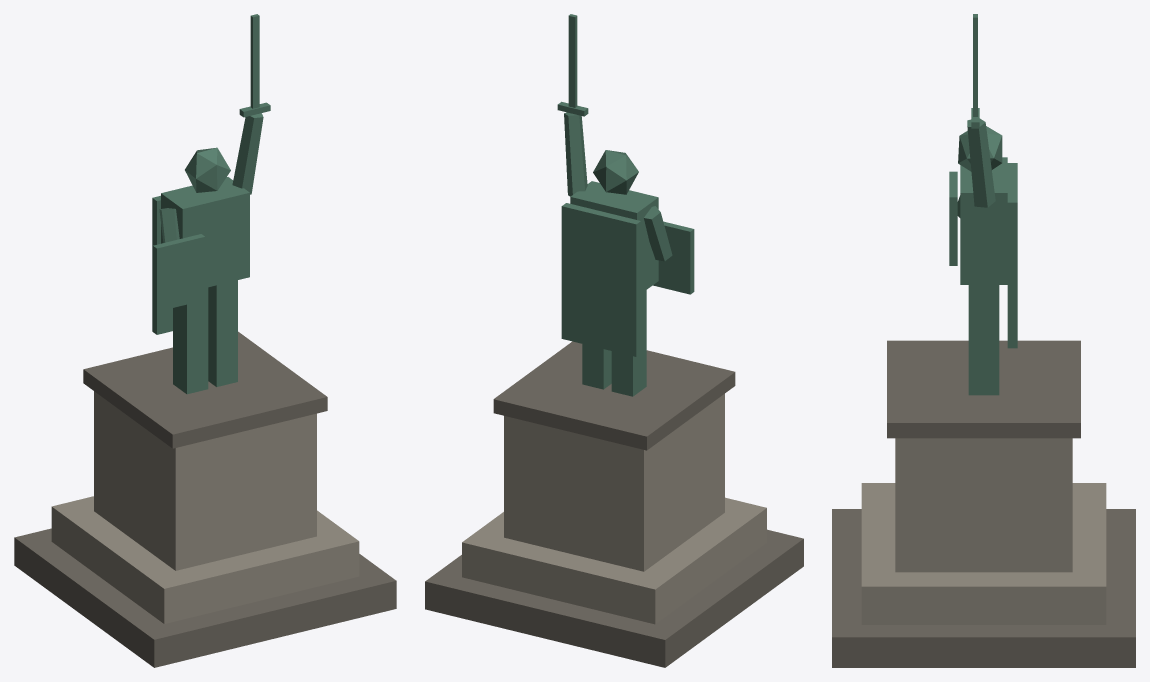
File: pra-estatua-grande.gltf
3 views of the same model, side by side, from view 1: azimuth 30°, elevation 25°; view 2: azimuth 150°, elevation 25°; view 3: azimuth 270°, elevation 25° (orthographic). The views are drawn at different scales.
Parts seen in each view (by area): view 1: pra-estatua-grande; view 2: pra-estatua-grande; view 3: pra-estatua-grande.
Part boxes in pixels (left/top/right/bottom): pra-estatua-grande: left=14, top=14, right=396, bottom=667; pra-estatua-grande: left=425, top=14, right=803, bottom=667; pra-estatua-grande: left=832, top=14, right=1135, bottom=667.
Bounding box in the file's own units: 1.8 × 4 × 1.8.
